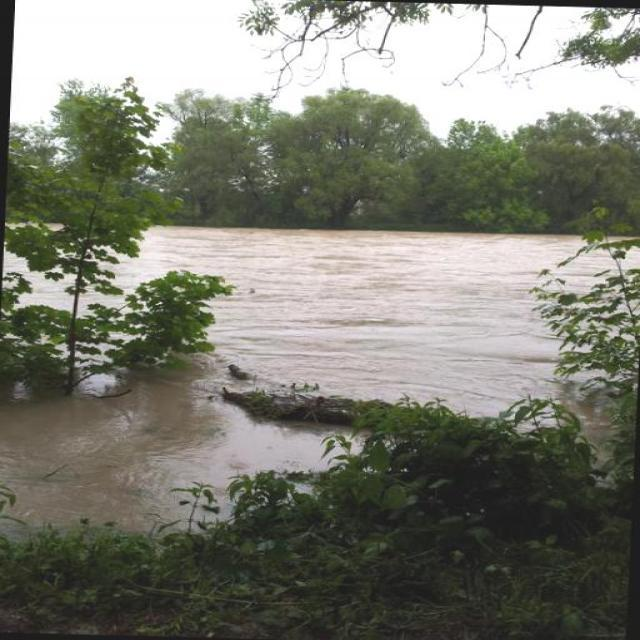flood: (0, 204, 639, 551)
